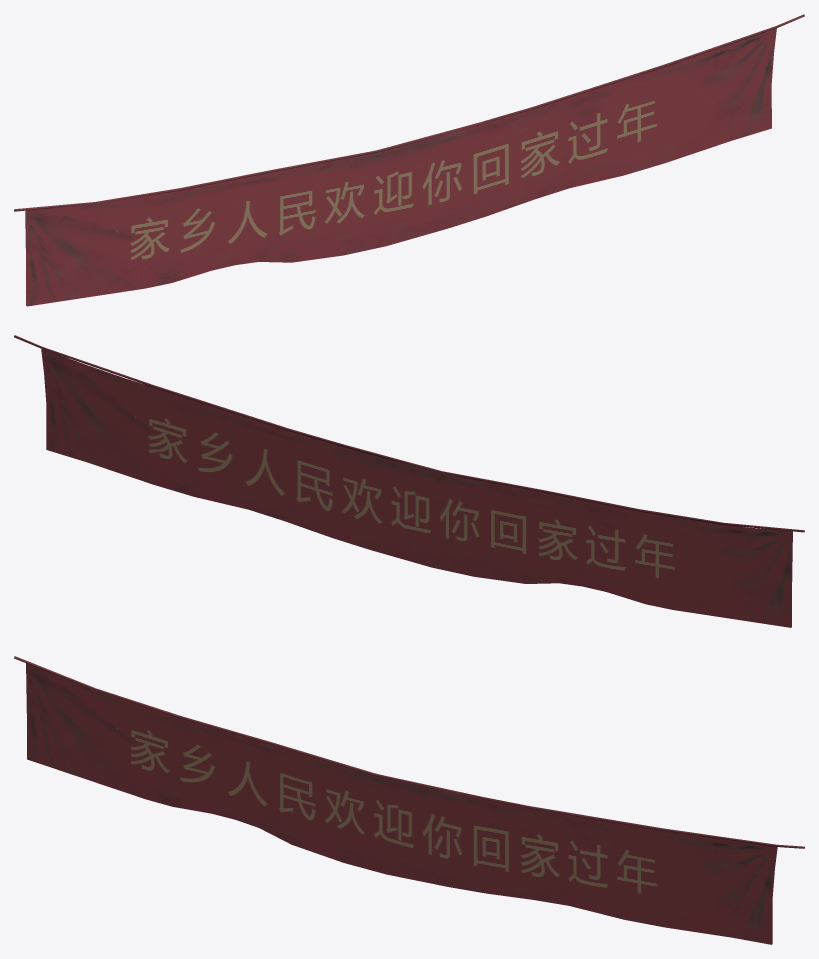
File: M_c7_TDM_tiaofu_01.fbx
The picture shows the model from 3 angles, top to bottom: view 1: azimuth 30°, elevation 25°; view 2: azimuth 150°, elevation 25°; view 3: azimuth 330°, elevation 25°; orthographic projection.
Visible parts, largest first — view 1: M_c7_TDM_tiaofu_01.mo; view 2: M_c7_TDM_tiaofu_01.mo; view 3: M_c7_TDM_tiaofu_01.mo.
Boxes of the visible parts, left/top/right/bottom form: M_c7_TDM_tiaofu_01.mo: left=14, top=14, right=804, bottom=306; M_c7_TDM_tiaofu_01.mo: left=14, top=335, right=804, bottom=627; M_c7_TDM_tiaofu_01.mo: left=14, top=656, right=804, bottom=944.
Bounding box in the file's own units: 839 × 132 × 2.61.
